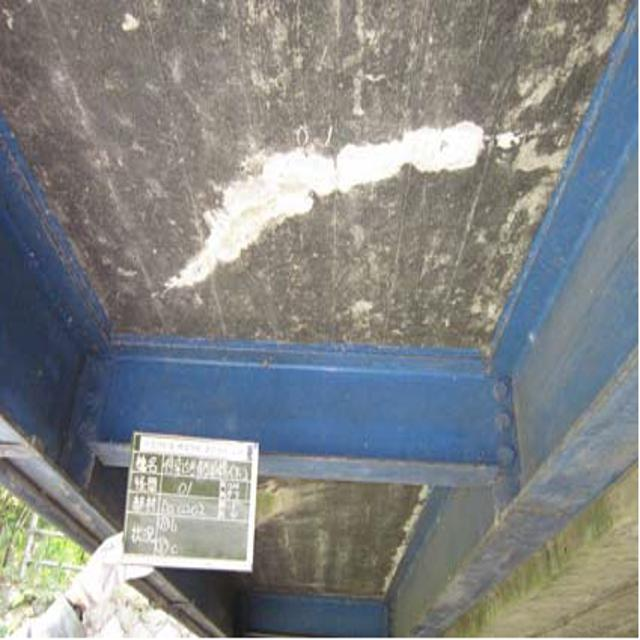freelime: (170, 93, 494, 310)
